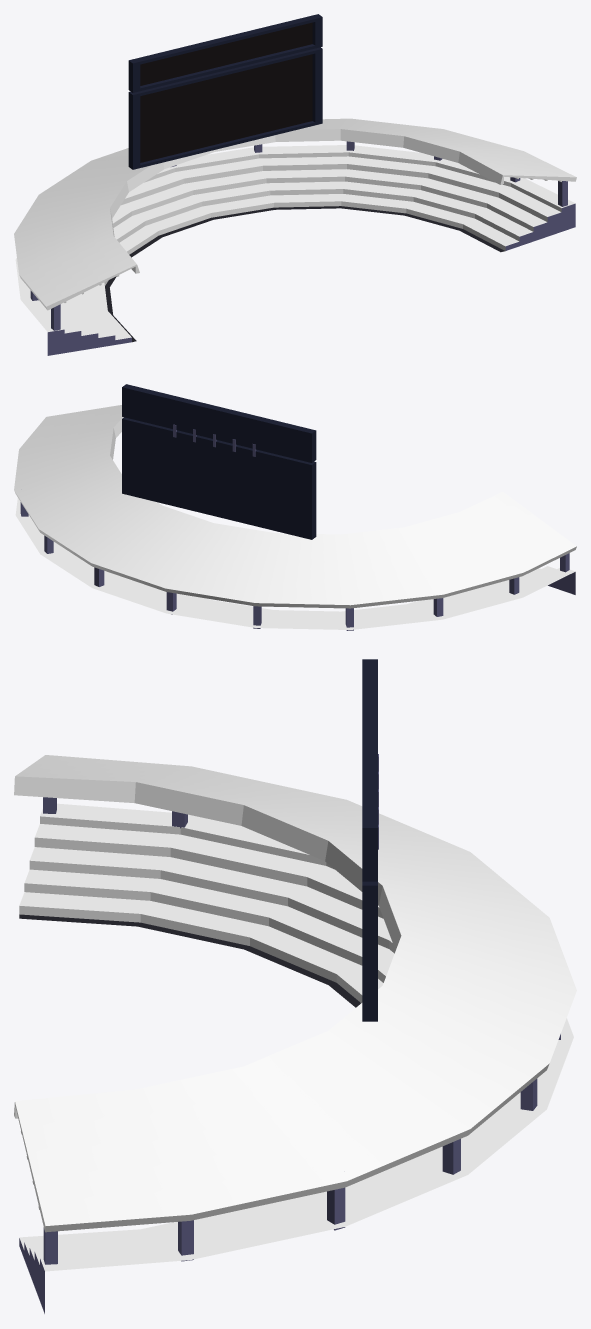
The model's file is stadium.fbx.
The picture shows the model from 3 angles, top to bottom: view 1: azimuth 30°, elevation 25°; view 2: azimuth 150°, elevation 25°; view 3: azimuth 270°, elevation 25°; orthographic projection. The views are drawn at different scales.
Parts seen in each view (by area): view 1: satdium, scoreboard1_stand; view 2: satdium, scoreboard1_stand; view 3: satdium, scoreboard1_stand.
Boxes of the visible parts, <box> form: satdium: <box>14,118,576,355</box>; scoreboard1_stand: <box>128,14,322,169</box>; satdium: <box>14,405,576,630</box>; scoreboard1_stand: <box>122,384,316,539</box>; satdium: <box>14,755,576,1313</box>; scoreboard1_stand: <box>362,659,378,1021</box>.
Size of the model in its own units: 3.06 by 1.03 by 1.54.
